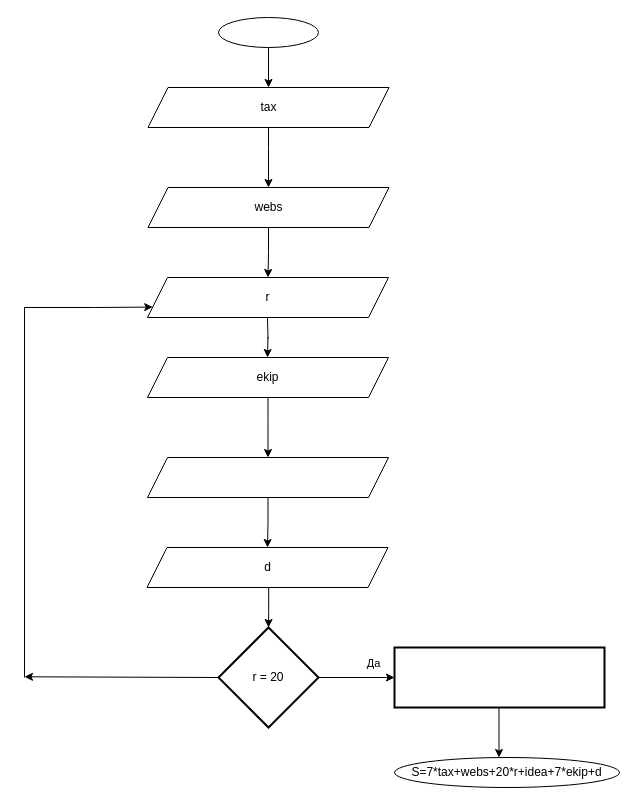
Image size: 637x805. Some labels were removed from this diagram. The centre of each missing label's shape, as x and y in pixels:
"idea" goes at (x=267, y=477).
"Изпринтирани 20 броя рекламни брошури" goes at (x=499, y=677).
"Начало" goes at (x=268, y=32).
